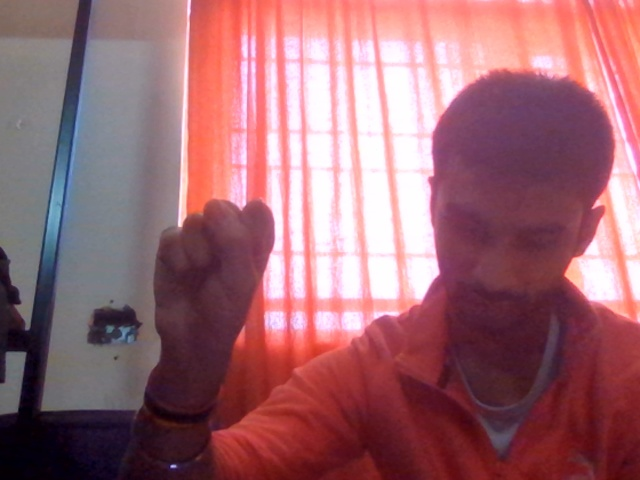S: (134, 167, 339, 412)
